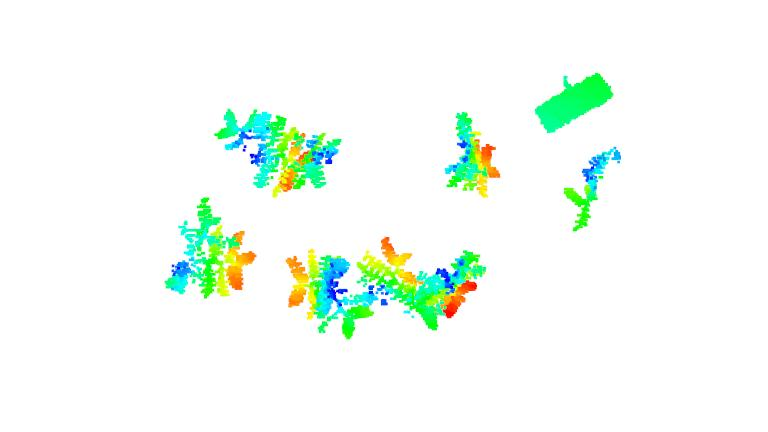chickpea: (166, 197, 256, 300), (283, 247, 371, 341), (357, 237, 439, 328), (207, 103, 289, 190), (441, 112, 503, 197), (276, 122, 349, 194), (565, 148, 621, 232), (424, 250, 485, 320)
